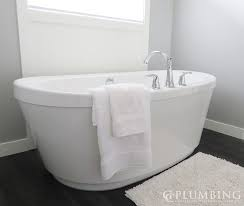bathub: (11, 64, 222, 192)
